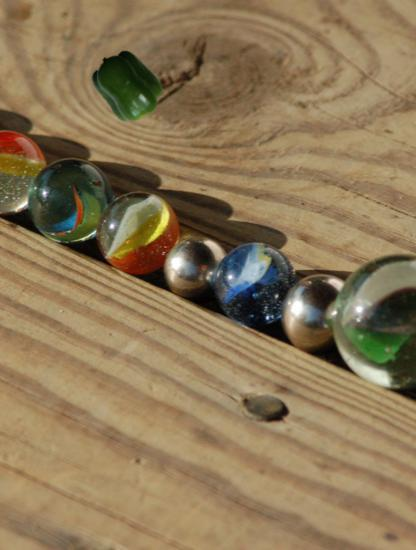Pepper: (90, 50, 164, 124)
